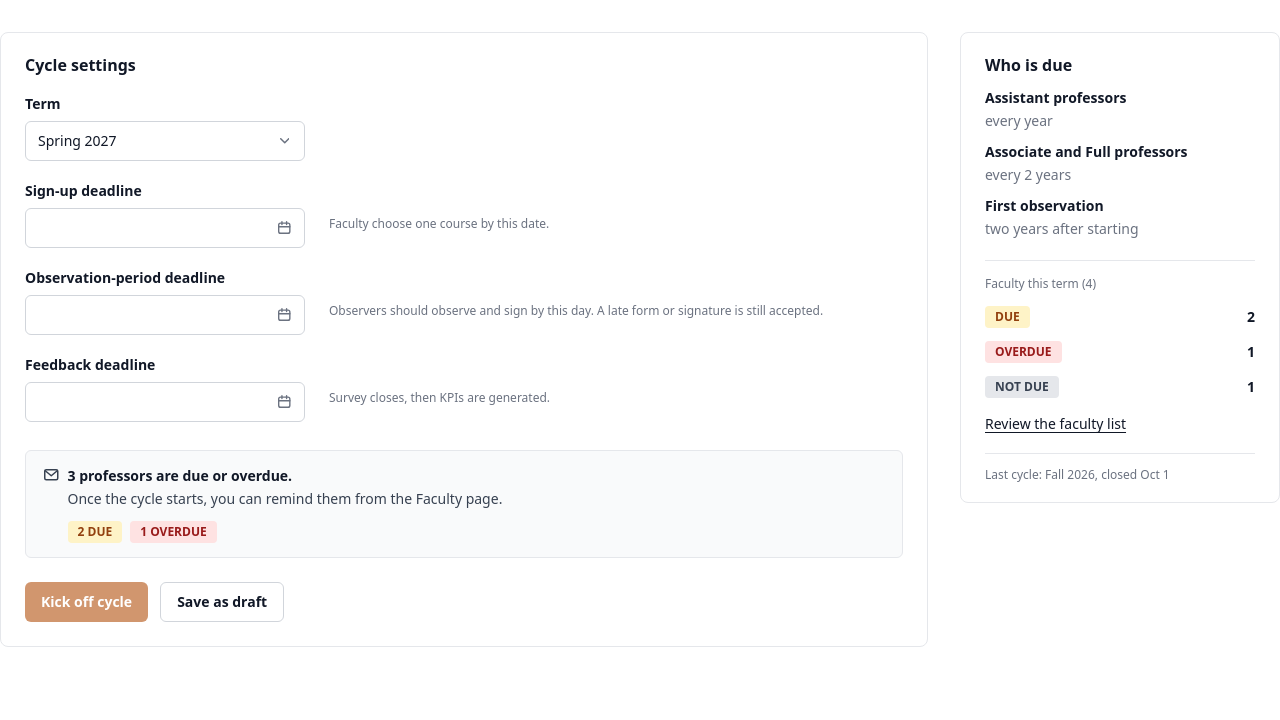
Test: Cycle page: due preview › counts the chosen term's preview and requests the new term's preview when the term changes
This screenshot has width=1280, height=720.
Expected: the text "3 professors are due or overdue." is shown, [68,466,292,485]
Expected: the text "2 DUE" is shown, [68,521,122,543]
Select "Fall 2027" in the dropdown labelled "Term". click: (165, 141)
box: [25,121,305,161]
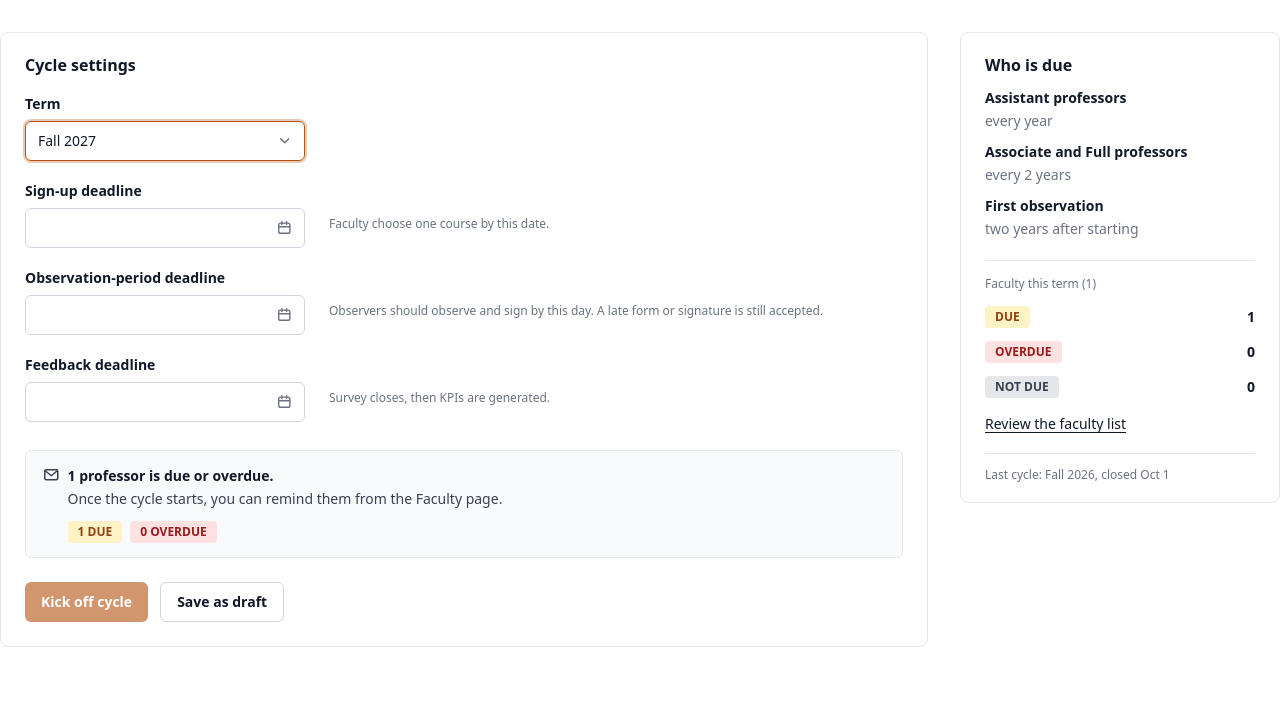
Expected: the text "1 professor is due or overdue." is shown, [68,466,274,485]
